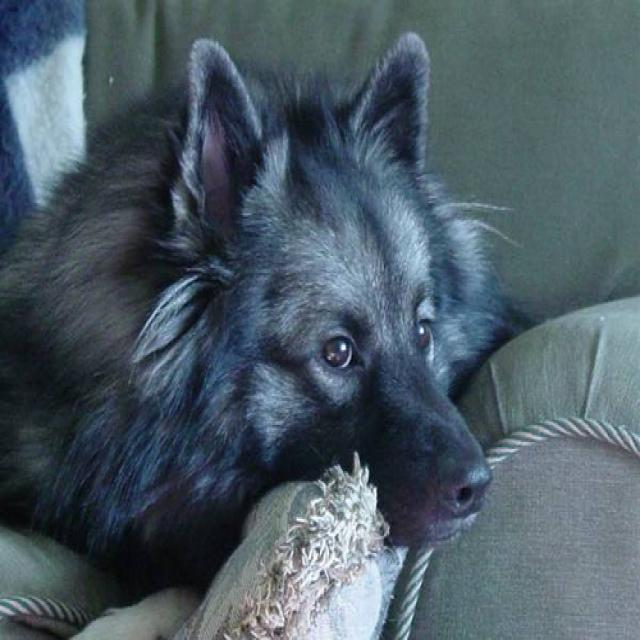dog-keeshond: (1, 12, 561, 620)
